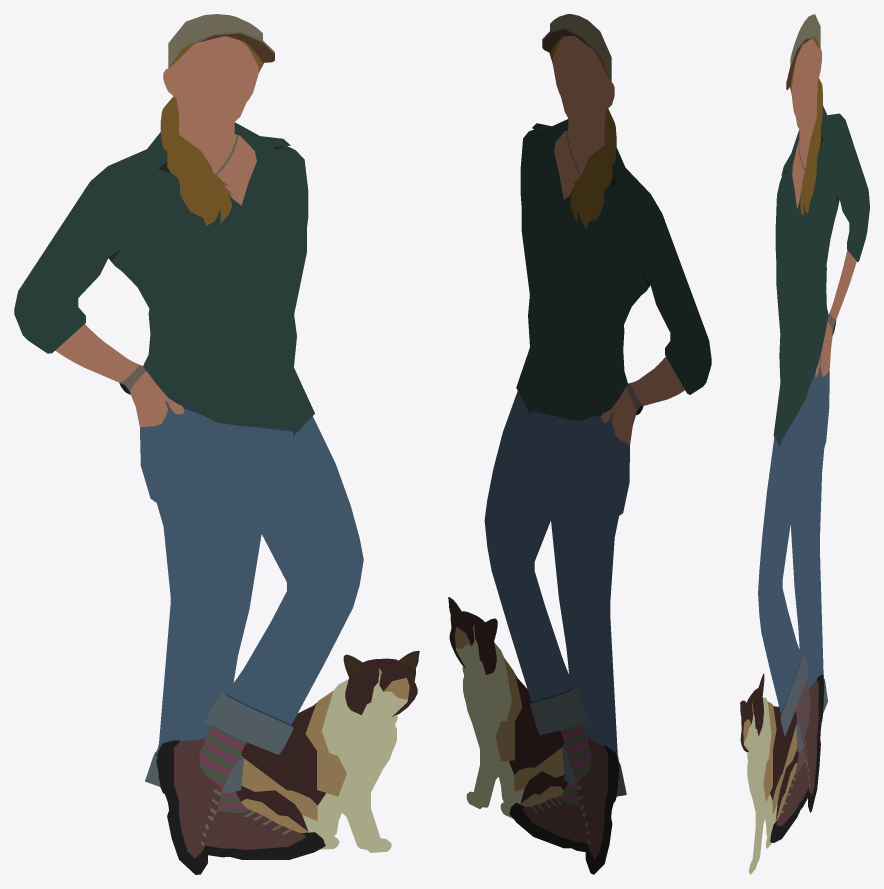
Rendered from gwiazdka4.obj.
3 renders of one model, left to right at view 1: azimuth 30°, elevation 25°; view 2: azimuth 150°, elevation 25°; view 3: azimuth 270°, elevation 25°, orthographic. The views are drawn at different scales.
Parts seen in each view (by area): view 1: Mesh1 Heather1 Model; view 2: Mesh1 Heather1 Model; view 3: Mesh1 Heather1 Model.
Part boxes in pixels (x1,y1,x2,y2): Mesh1 Heather1 Model: (14,14,419,874); Mesh1 Heather1 Model: (448,14,711,874); Mesh1 Heather1 Model: (740,14,869,874).
Size of what is drawn, in the model's own units: 0.6734 by 1.65 by 0.2428.
